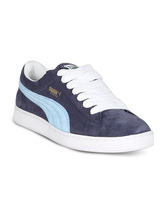shoes: (8, 57, 159, 155)
